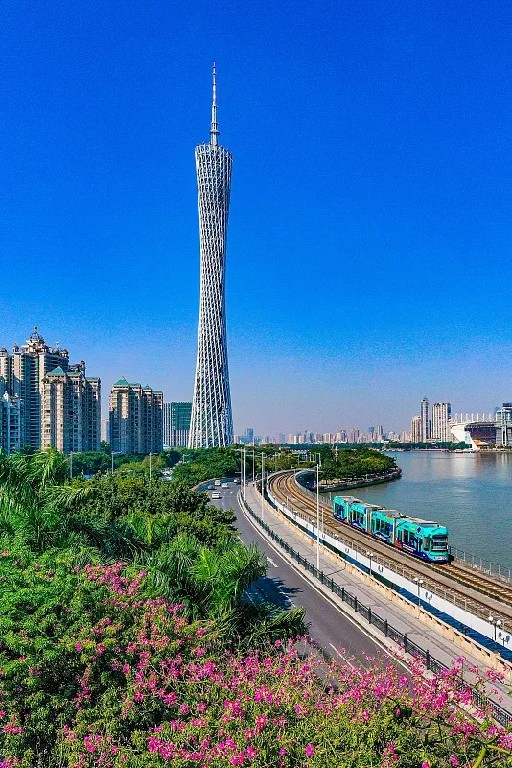Canton: (188, 56, 237, 445)
